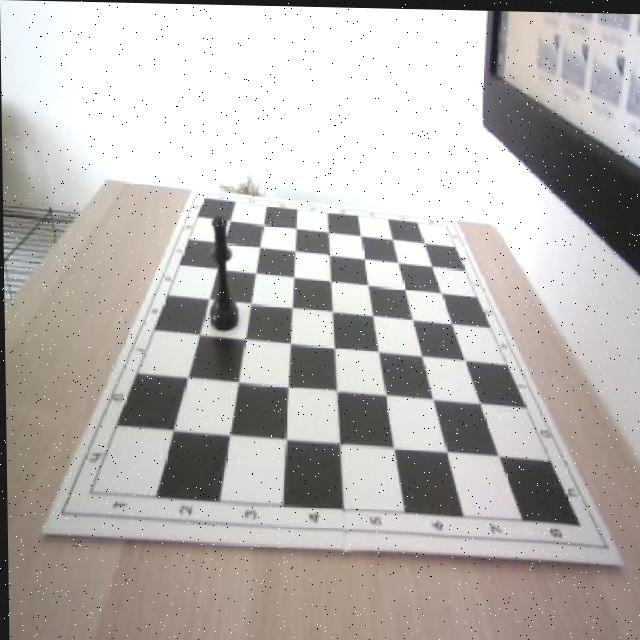black-pawn: (202, 216, 240, 333)
